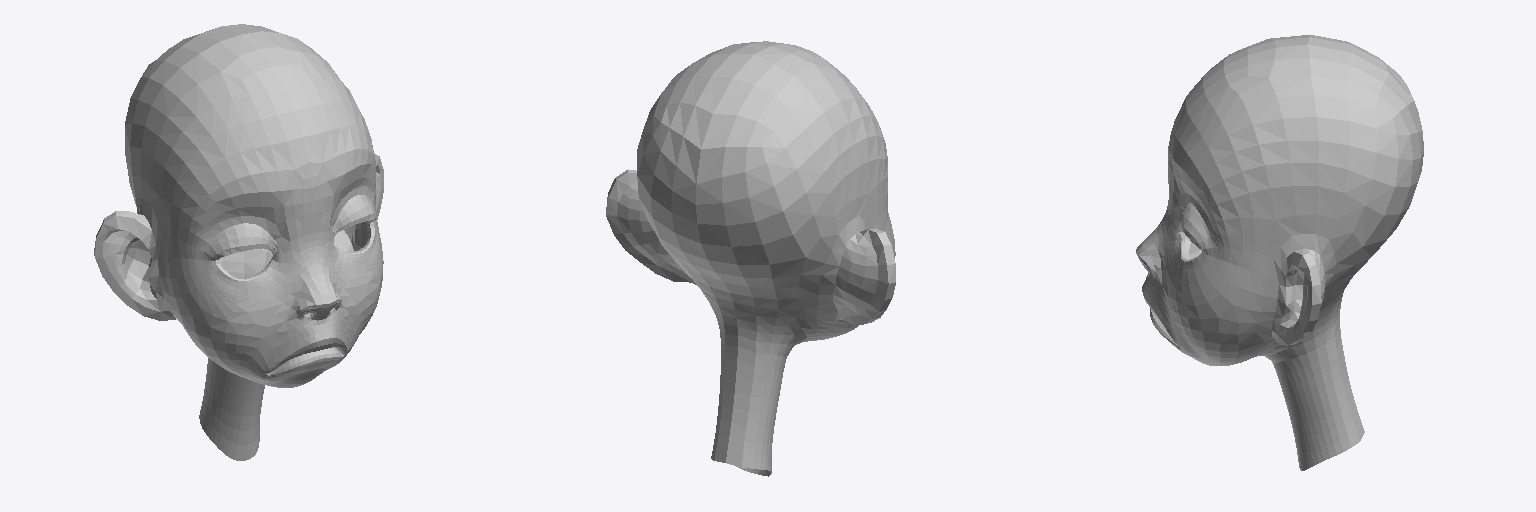
The model's file is lipDepressor.obj.
The picture shows the model from 3 angles: view 1: azimuth 30°, elevation 25°; view 2: azimuth 150°, elevation 25°; view 3: azimuth 270°, elevation 25°; orthographic projection.
Parts seen in each view (by area): view 1: ZBrushPolyMesh3D; view 2: ZBrushPolyMesh3D; view 3: ZBrushPolyMesh3D.
Boxes of the visible parts, x1,y1,x2,y2 form: ZBrushPolyMesh3D: [94, 24, 383, 460]; ZBrushPolyMesh3D: [606, 41, 895, 476]; ZBrushPolyMesh3D: [1136, 35, 1423, 470].
Size of the model in its own units: 5.74 by 8.03 by 4.96.